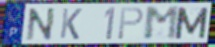1: (103, 6, 116, 41)
K: (58, 7, 84, 41)
M: (143, 5, 180, 42), (173, 6, 210, 41)
N: (25, 7, 57, 42)
P: (116, 6, 145, 41)
